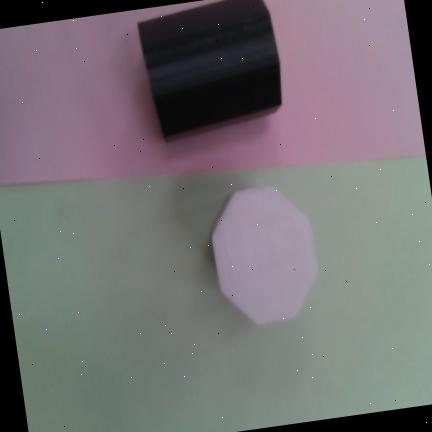Prisma_hexagonal: (138, 0, 282, 137), (212, 184, 318, 325)
